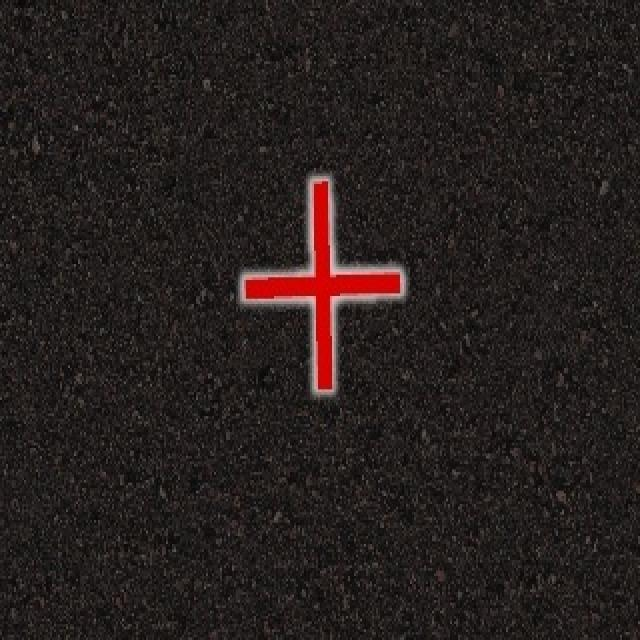x_marker: (243, 180, 401, 388)
